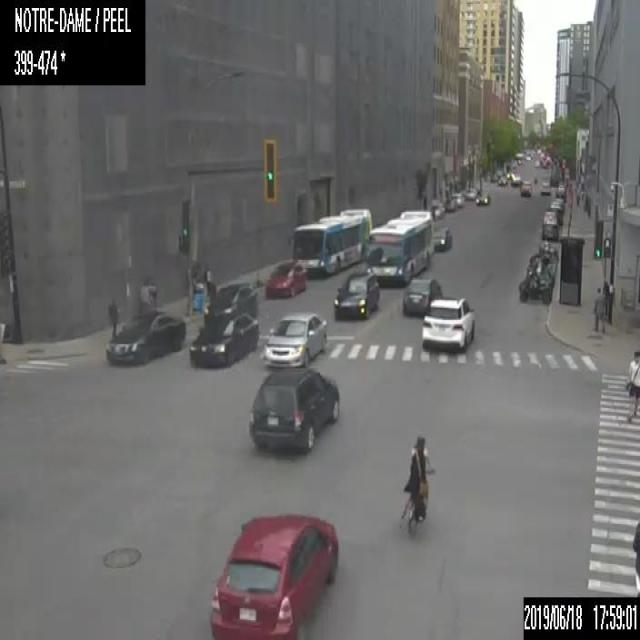bus: (291, 208, 372, 274), (366, 209, 432, 283)
cyclist: (401, 432, 434, 533)
pedestrian: (625, 348, 639, 423), (592, 286, 605, 334), (632, 521, 639, 595), (107, 298, 118, 338), (147, 280, 157, 308), (139, 280, 148, 308), (203, 262, 210, 295), (430, 200, 435, 223), (210, 281, 215, 300), (575, 192, 579, 205), (534, 175, 536, 185)
vehicle: (208, 508, 339, 639), (249, 366, 340, 450), (104, 305, 186, 363), (189, 310, 259, 367), (262, 310, 326, 368), (421, 296, 475, 350), (202, 282, 258, 324), (333, 270, 379, 318), (402, 276, 442, 316), (265, 261, 305, 297), (518, 274, 552, 302), (526, 256, 554, 284), (528, 242, 558, 261), (432, 227, 451, 250), (540, 222, 558, 241), (547, 204, 562, 223), (542, 210, 556, 226), (475, 192, 490, 206), (519, 179, 531, 196), (552, 197, 566, 211), (450, 192, 464, 205), (432, 202, 444, 217), (464, 188, 476, 200), (444, 199, 455, 212), (540, 181, 550, 194), (550, 201, 564, 209), (497, 175, 506, 185), (557, 183, 564, 192), (524, 153, 531, 160)
